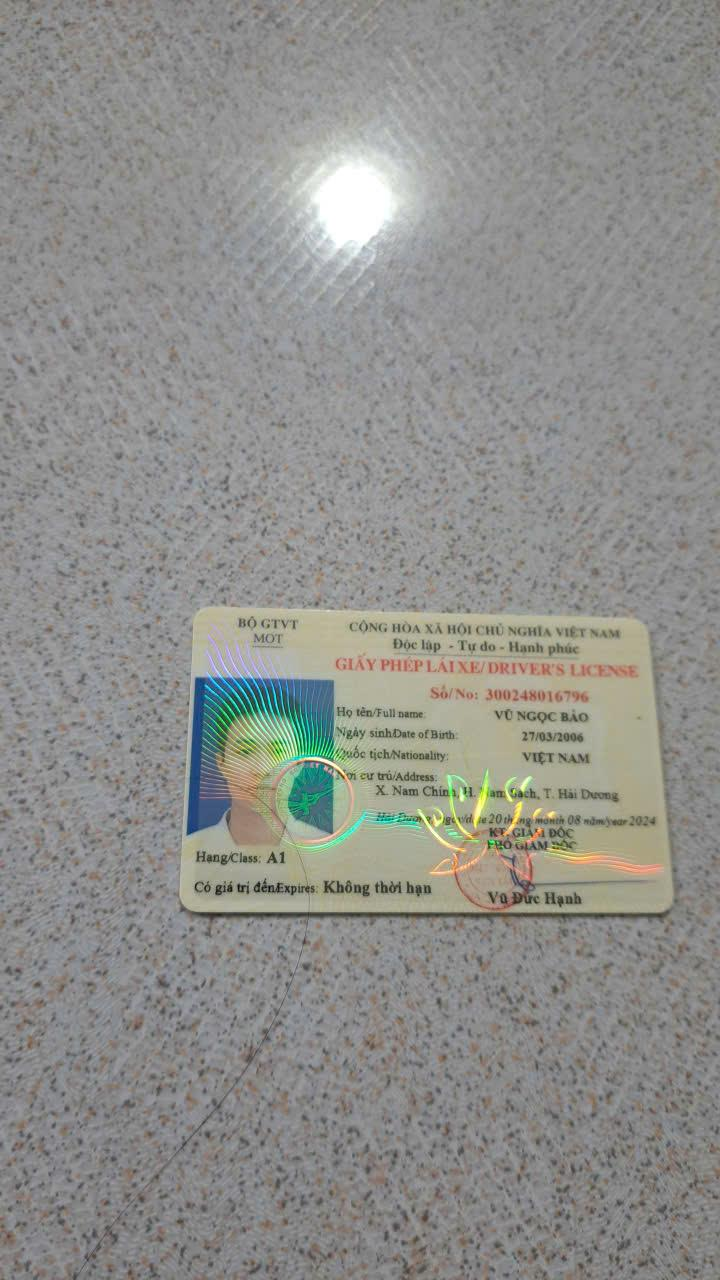gplx: (174, 597, 680, 920)
